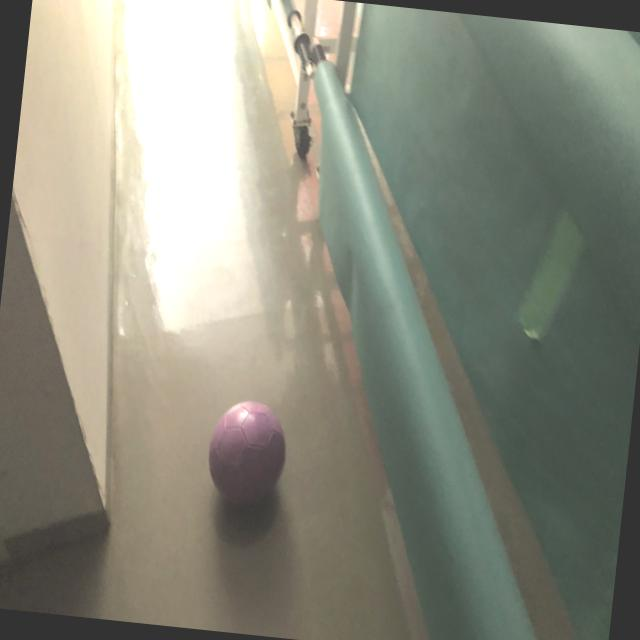purple_ball: (204, 398, 292, 512)
